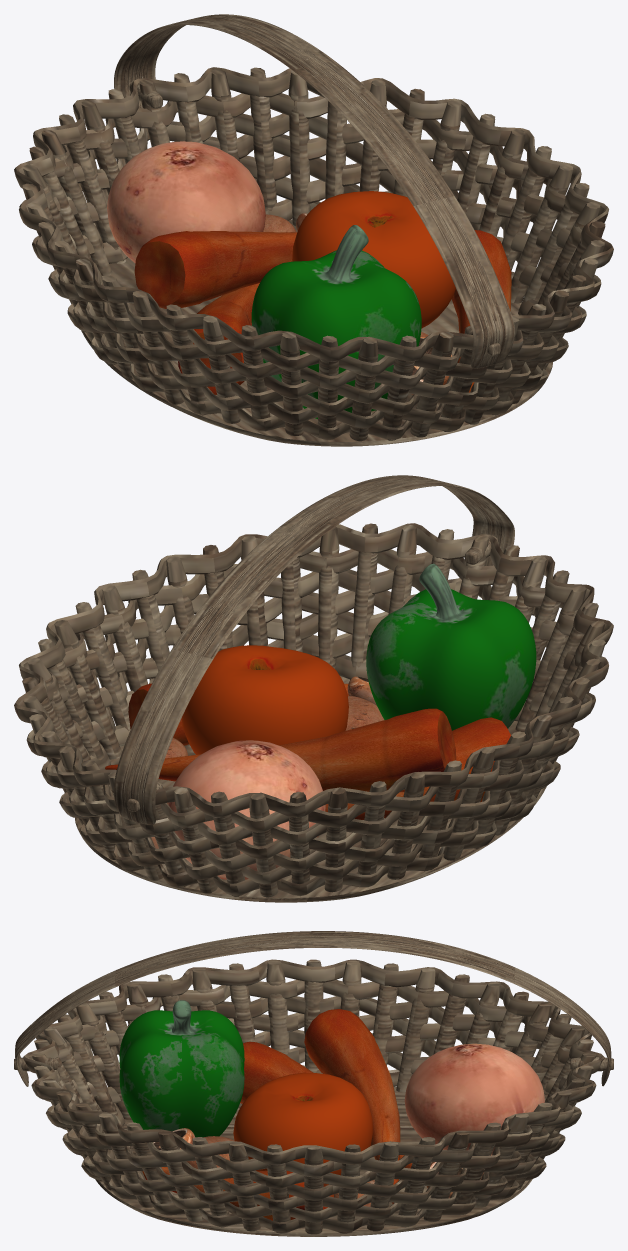
The picture shows the model from 3 angles, top to bottom: view 1: azimuth 30°, elevation 25°; view 2: azimuth 150°, elevation 25°; view 3: azimuth 270°, elevation 25°; orthographic projection. The views are drawn at different scales.
Visible parts, largest first — view 1: VeggieBasket; view 2: VeggieBasket; view 3: VeggieBasket.
Part boxes in pixels (<box>): VeggieBasket: <box>14,14,613,446</box>; VeggieBasket: <box>14,475,613,902</box>; VeggieBasket: <box>14,931,613,1236</box>.
Bounding box in the file's own units: 0.1273 × 0.069 × 0.1663.
Materials: 6 (6 with a texture image).
